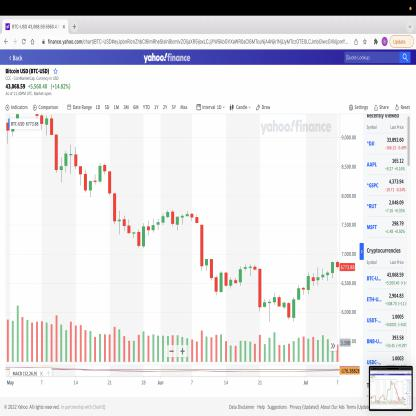Bearish: 3 Black Crows: (102, 160, 118, 226), (74, 143, 88, 195)
Bearish: Evening Star Doji: (64, 141, 78, 175)
Bullish: Engulfing: (136, 221, 146, 250), (286, 296, 296, 324)
